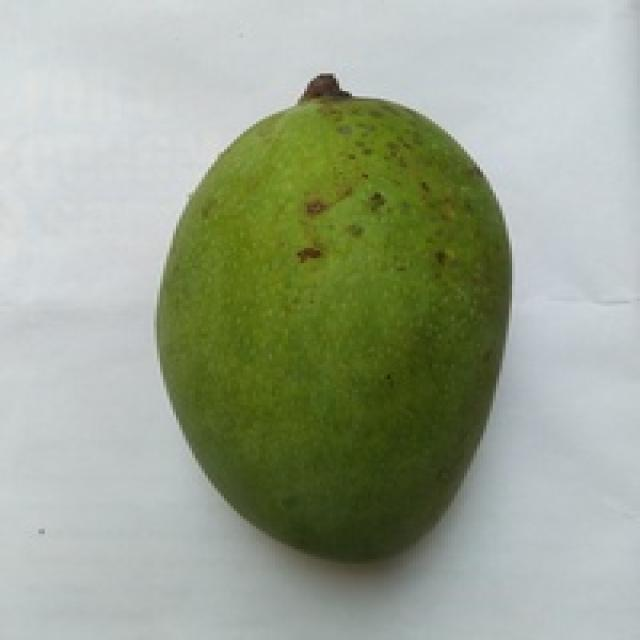Mango: (163, 76, 509, 559)
